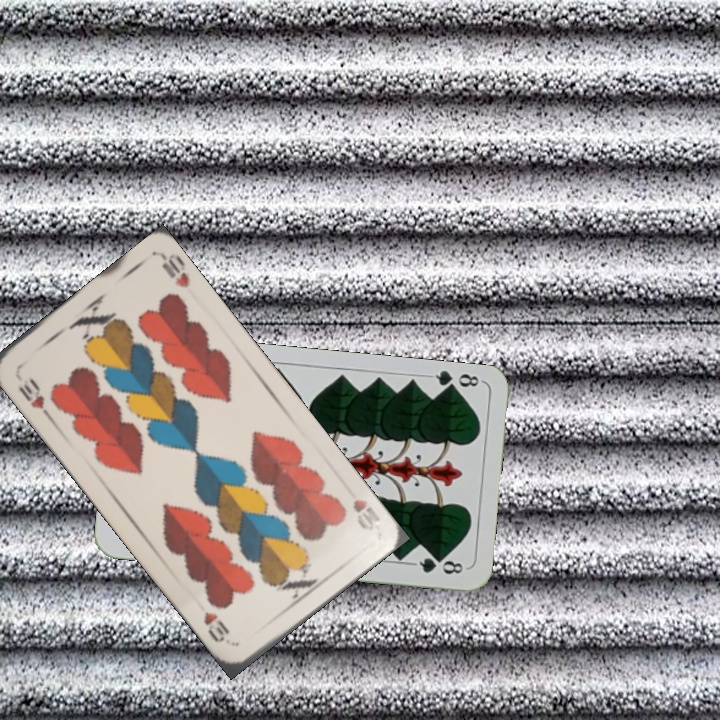G8: (425, 367, 484, 396)
H10: (14, 373, 54, 421), (348, 495, 383, 534)
